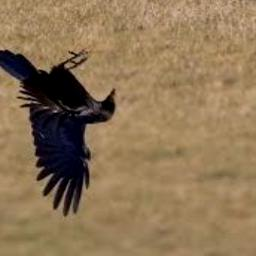Crow: (0, 48, 116, 217)
